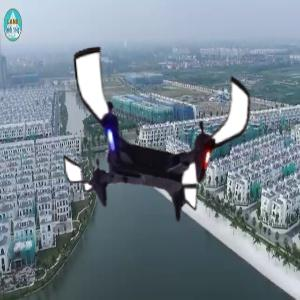drone: (58, 33, 260, 235)
